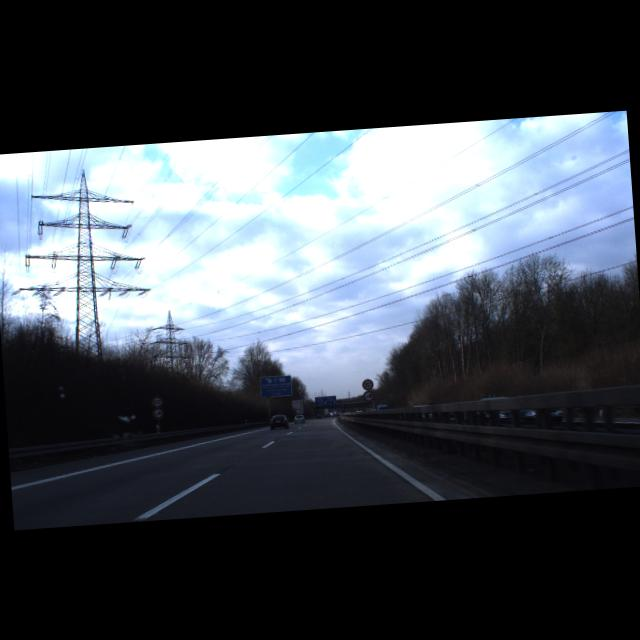prohibitory: (151, 394, 164, 408), (361, 378, 374, 390), (362, 390, 375, 402), (152, 408, 164, 420)
